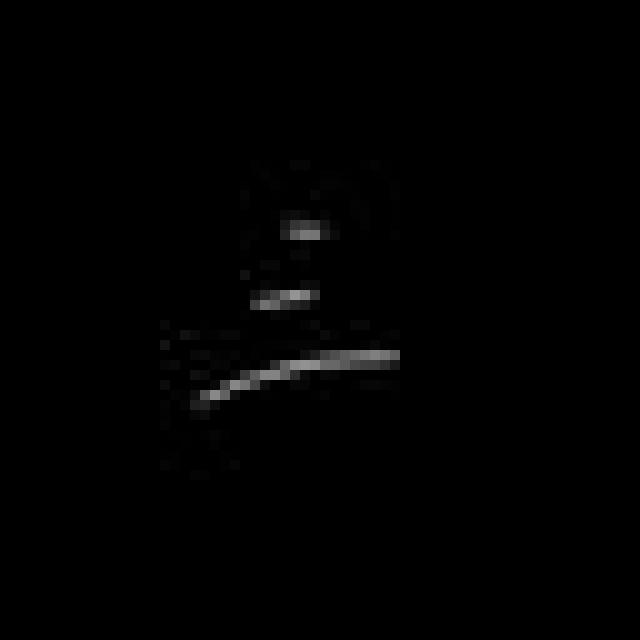3 -three-: (188, 210, 412, 425)
